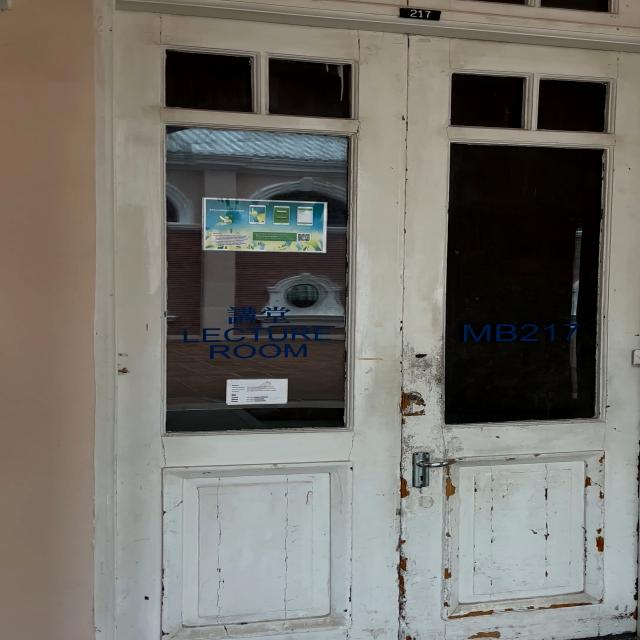MB217_roomNum: (396, 4, 446, 25)
MB217_windowNum: (460, 320, 588, 347)
